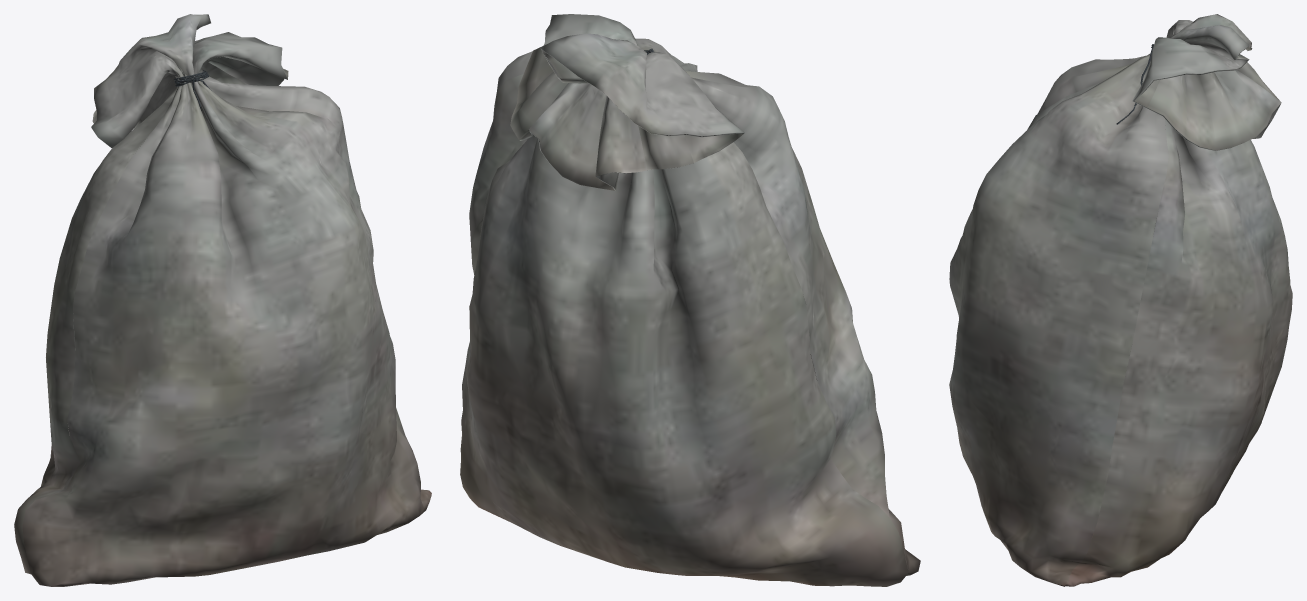
The model's file is obj_sack_v1.glb.
3 renders of one model, left to right at view 1: azimuth 30°, elevation 25°; view 2: azimuth 150°, elevation 25°; view 3: azimuth 270°, elevation 25°, orthographic. The views are drawn at different scales.
Parts seen in each view (by area): view 1: sack_Material_0; view 2: sack_Material_0; view 3: sack_Material_0.
Part boxes in pixels (x1,y1,x2,y2): sack_Material_0: (14, 14, 431, 586); sack_Material_0: (460, 14, 920, 586); sack_Material_0: (949, 14, 1292, 586).
Size of the model in its own units: 0.5689 by 0.65 by 0.4238.
Materials: 1 (1 with a texture image).
